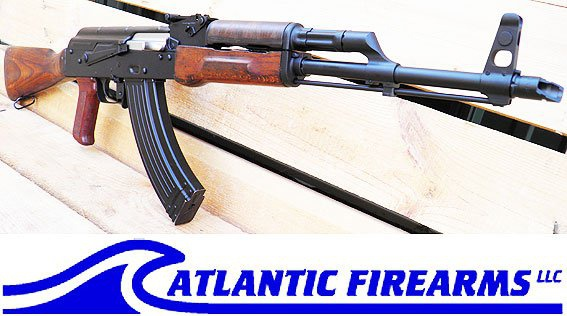ak47: (4, 13, 563, 224)
